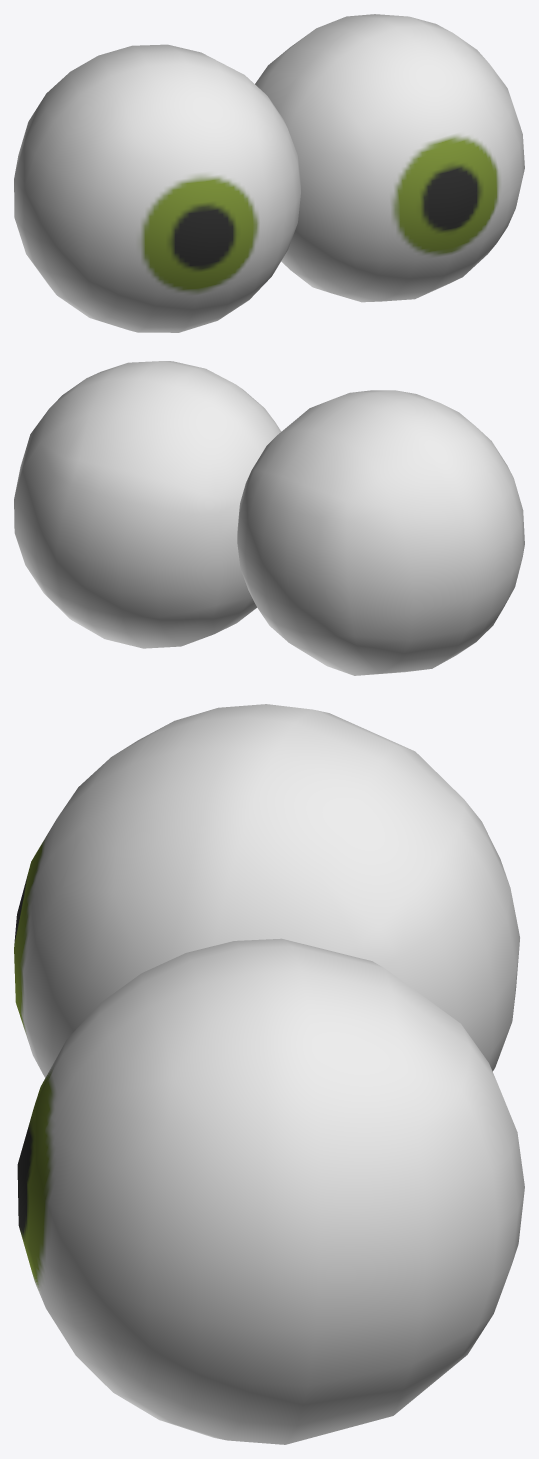
File: Anim_Shoot_Dualzi_Update.fbx
The picture shows the model from 3 angles, top to bottom: view 1: azimuth 30°, elevation 25°; view 2: azimuth 150°, elevation 25°; view 3: azimuth 270°, elevation 25°; orthographic projection. The views are drawn at different scales.
Visible parts, largest first — view 1: polySurface19, polySurface18; view 2: polySurface19, polySurface18; view 3: polySurface18, polySurface19.
Boxes of the visible parts, box(x1,y1,x2,y2) form: polySurface19: box(14, 44, 300, 332); polySurface18: box(255, 14, 524, 302); polySurface19: box(237, 390, 524, 675); polySurface18: box(14, 361, 281, 648); polySurface18: box(17, 938, 524, 1444); polySurface19: box(14, 704, 519, 1077).
Size of the model in its own units: 20.9 by 12.11 by 11.16.
